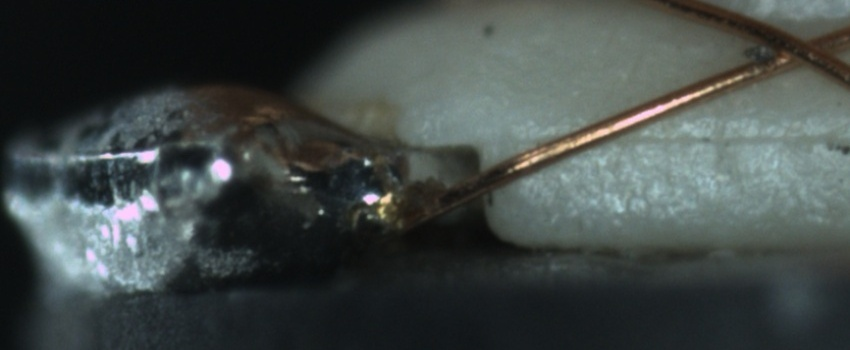CL: (746, 16, 842, 78)
DL: (554, 106, 848, 170)
